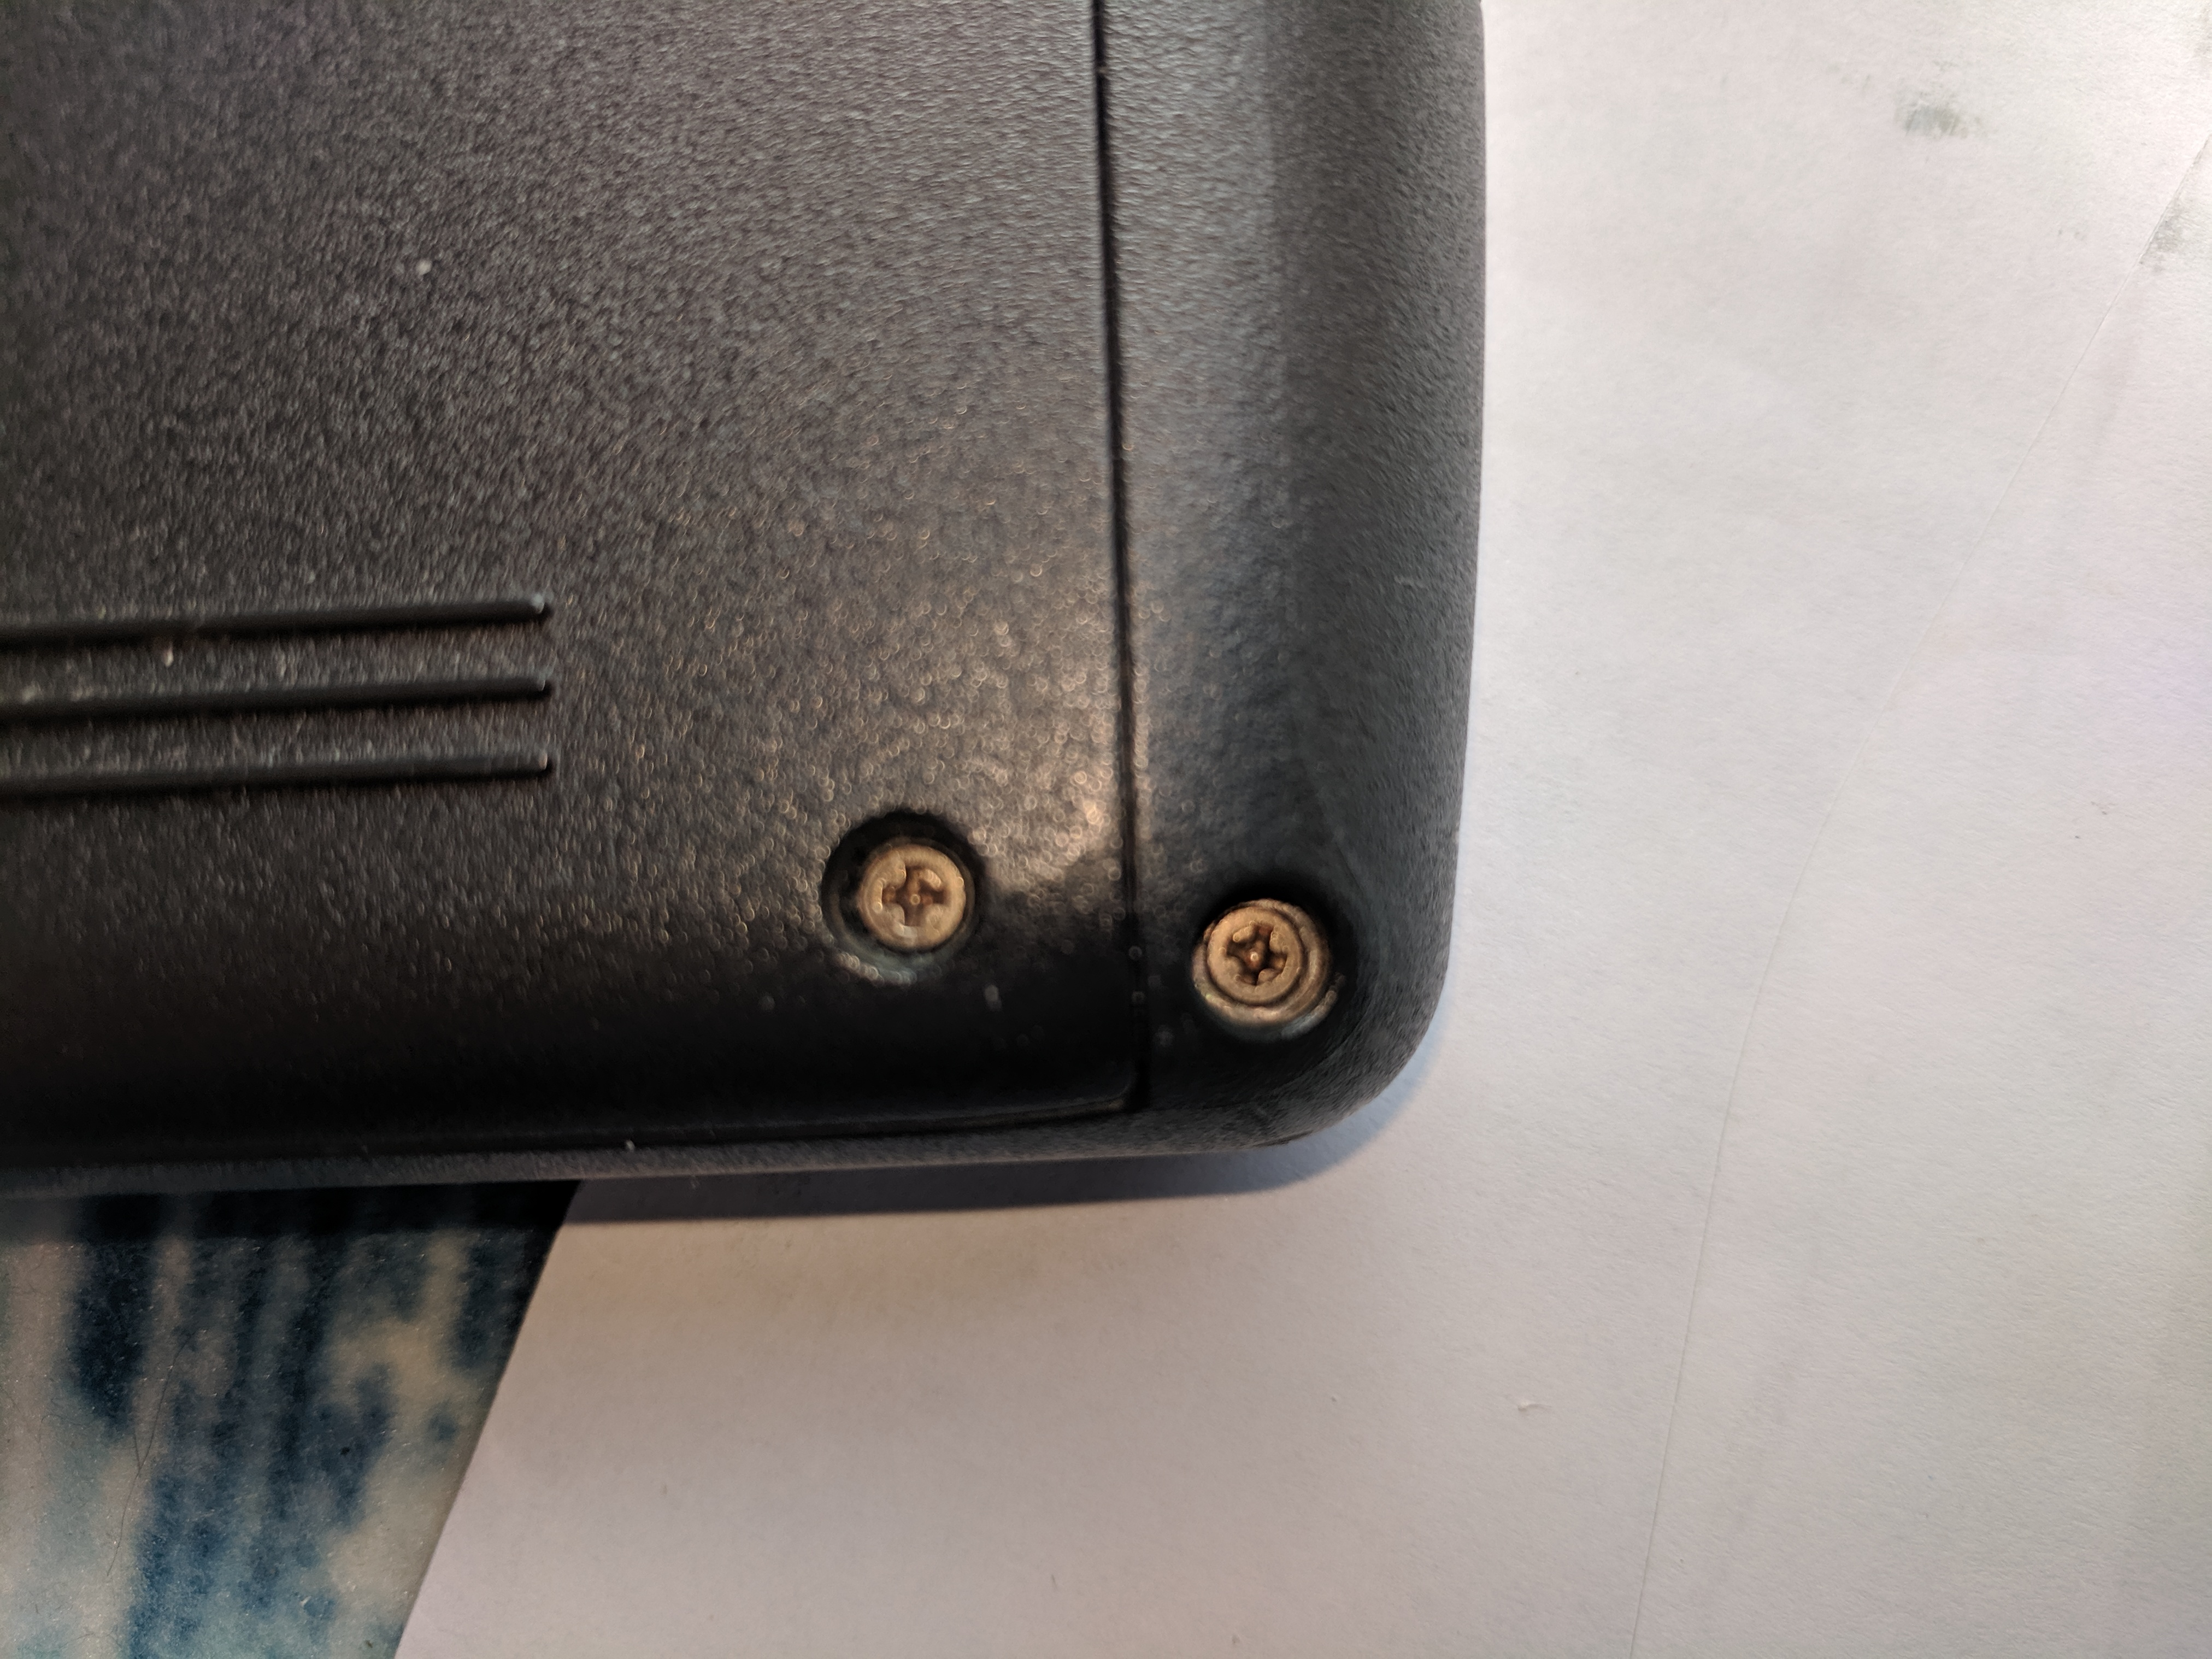cross_recessed_screw: (829, 817, 979, 957), (1183, 878, 1329, 1018)
